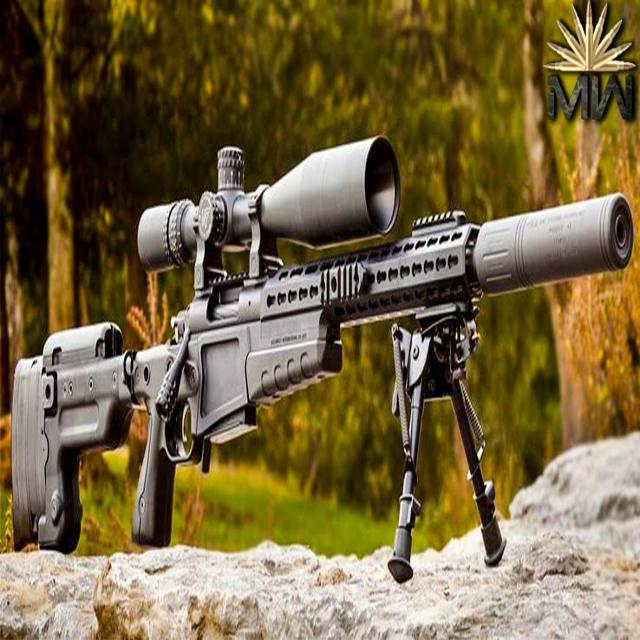Weapon: (6, 119, 636, 582)
